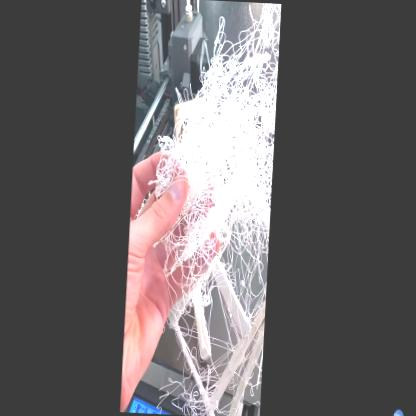fail: (165, 85, 277, 263), (189, 268, 268, 414)
